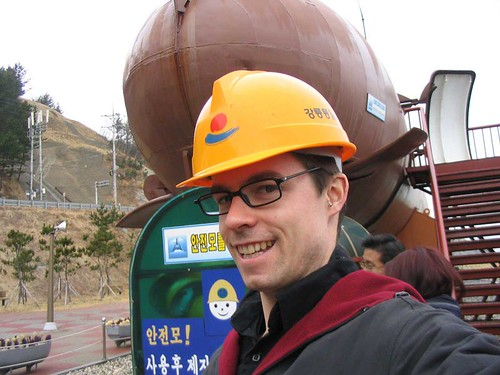person hardhat: (175, 70, 357, 290)
